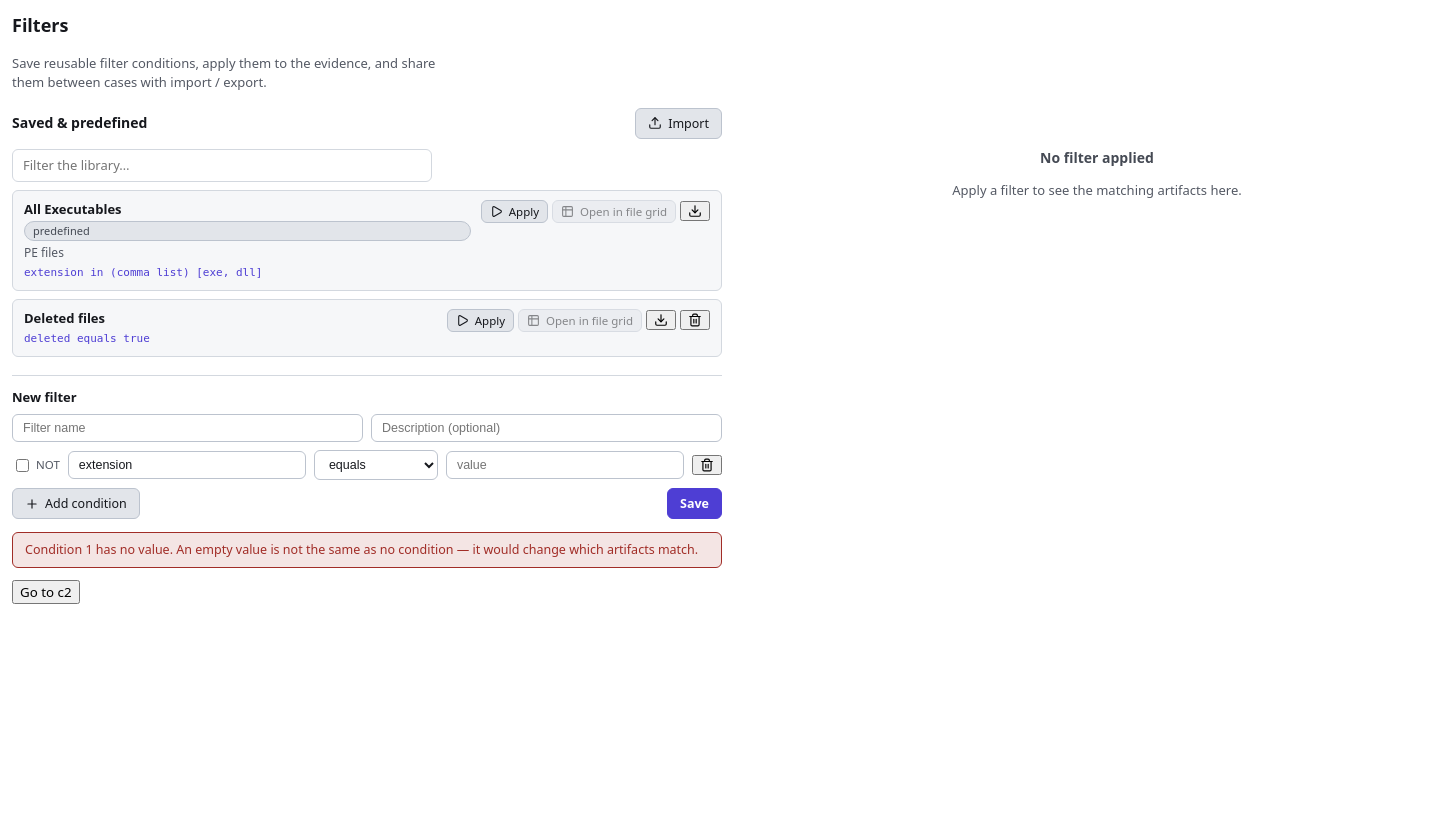
Test case: FiltersPage › says the match count is a floor when the scan hit its ceiling (B6-008)
Expected: the text "Deleted files" is shown, [24,309,105,327]
Click the button "Apply" in the row of "Deleted files": (480, 320) [447,309,514,332]
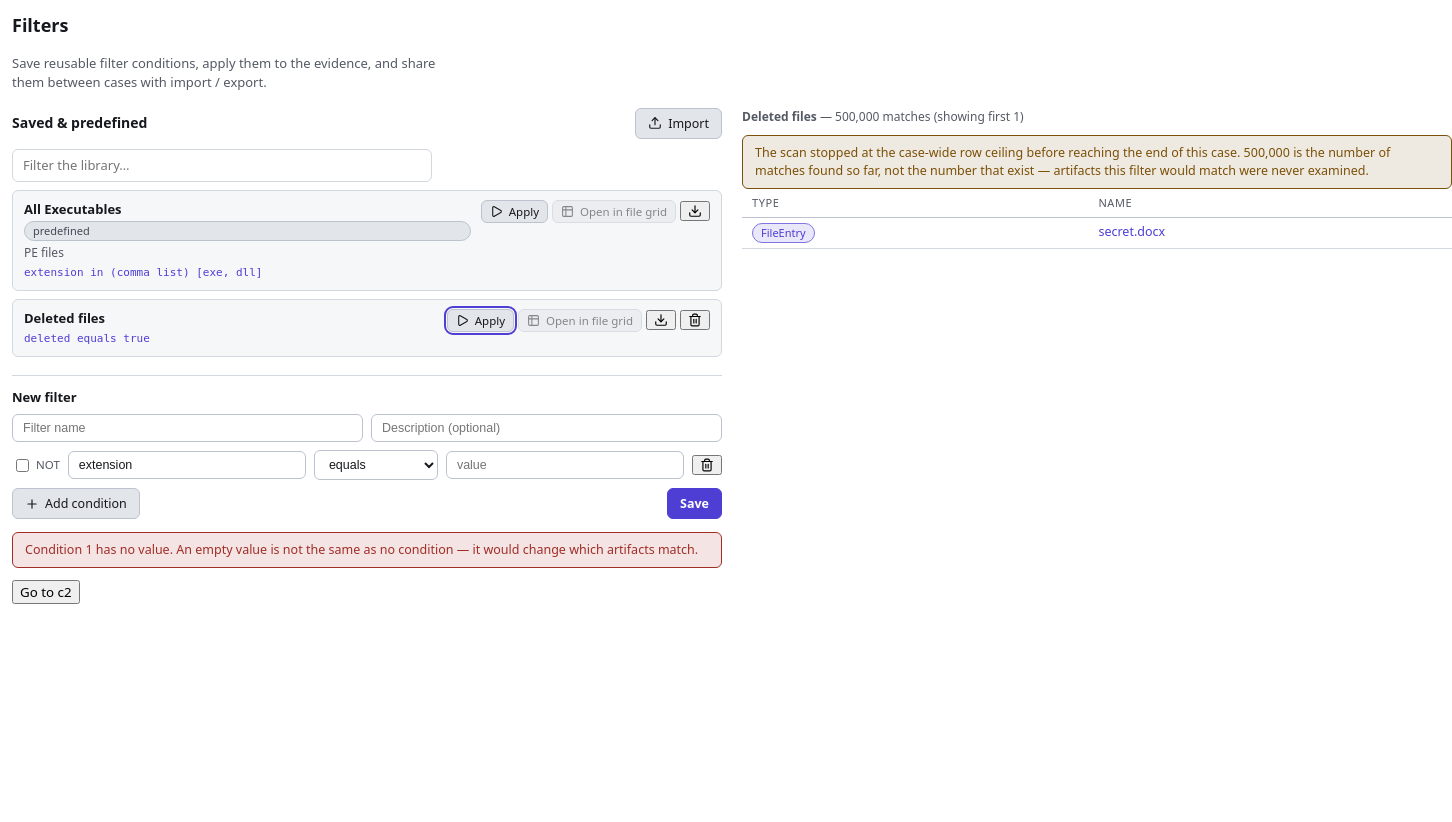
Expected: the text with test id "flt-scan-incomplete" shows "not the number that exist", [755,144,1390,179]
